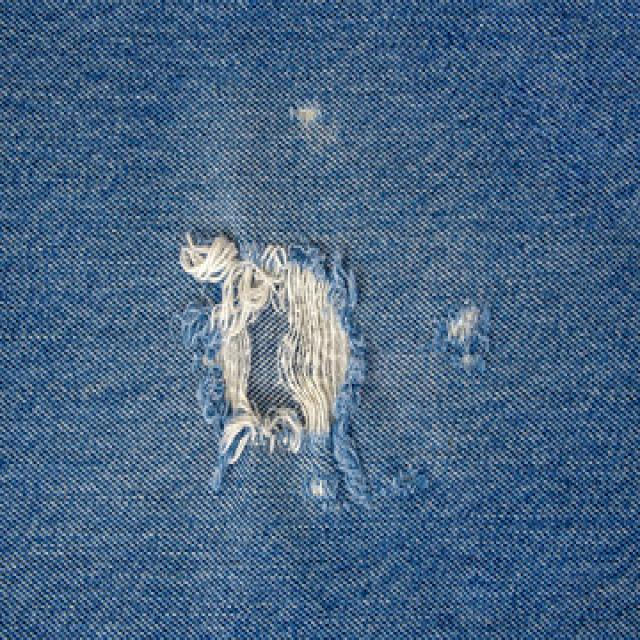Hole: (181, 234, 365, 472), (448, 301, 491, 372), (291, 102, 322, 128)
